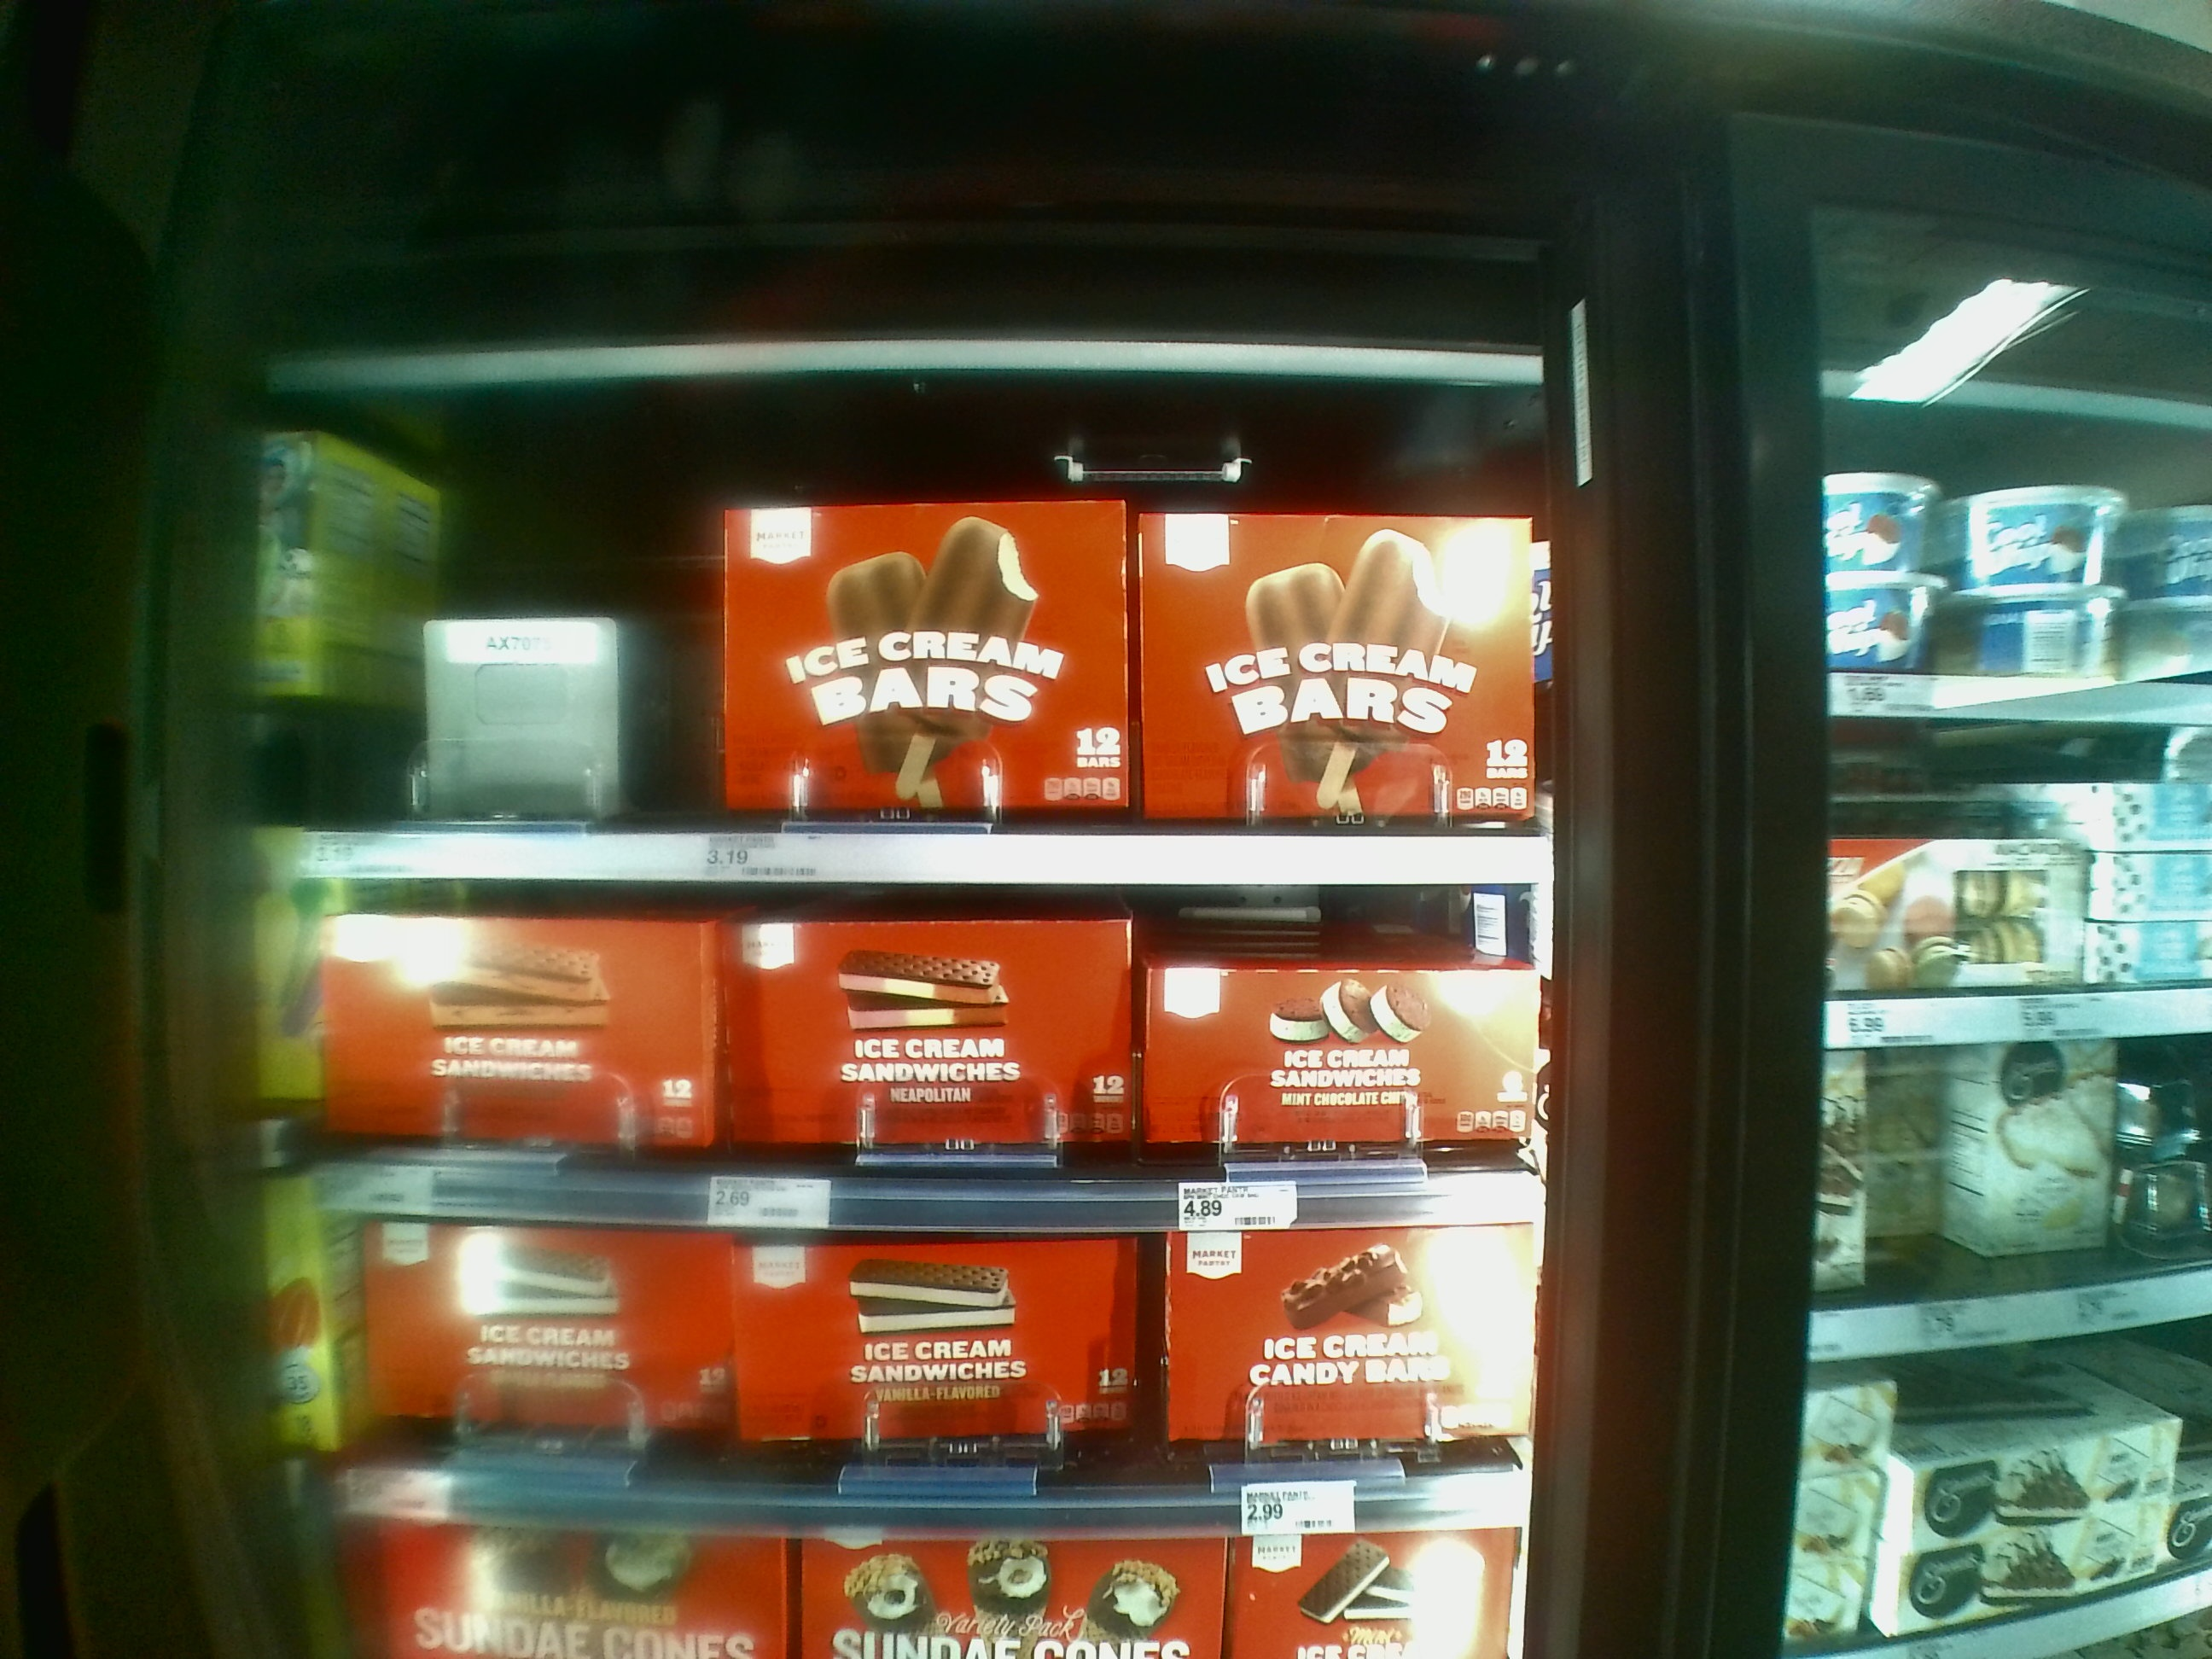shelf: (298, 410, 1548, 892), (315, 873, 1550, 1223), (336, 1220, 1540, 1528)
